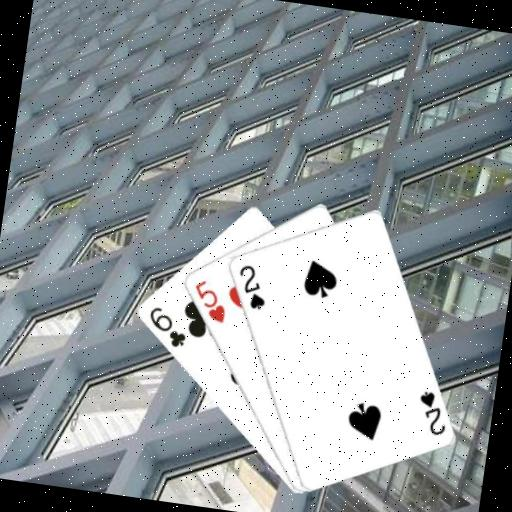2S: (232, 260, 272, 312), (412, 387, 452, 439)
5H: (187, 275, 231, 325)
6C: (142, 302, 191, 350)
